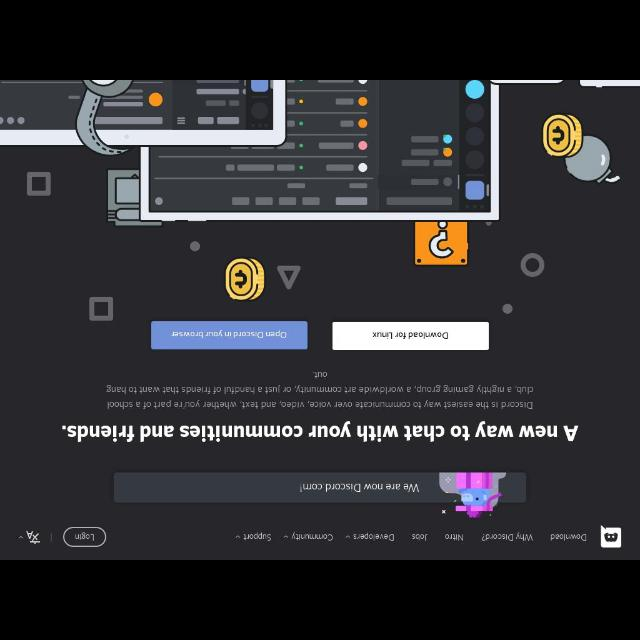backgroundimage: (1, 82, 638, 522)
icon: (346, 535, 350, 537), (284, 536, 288, 538), (236, 536, 240, 538), (19, 536, 23, 538)
image: (439, 473, 506, 517), (600, 526, 622, 546), (26, 530, 40, 544)
input: (115, 473, 525, 501)
spinner: (346, 532, 394, 540), (284, 532, 332, 540), (18, 530, 40, 544), (236, 532, 270, 540)
text: (106, 372, 534, 408), (63, 424, 579, 442), (301, 483, 419, 492), (172, 330, 286, 338), (373, 332, 447, 340), (482, 532, 532, 540), (354, 532, 394, 540), (292, 532, 332, 540), (550, 534, 586, 540), (243, 532, 270, 540), (76, 532, 94, 540), (445, 534, 463, 540), (412, 534, 428, 540)
textbutton: (333, 322, 489, 350), (152, 322, 306, 348), (62, 527, 106, 547)
toolbar: (8, 522, 640, 558)
